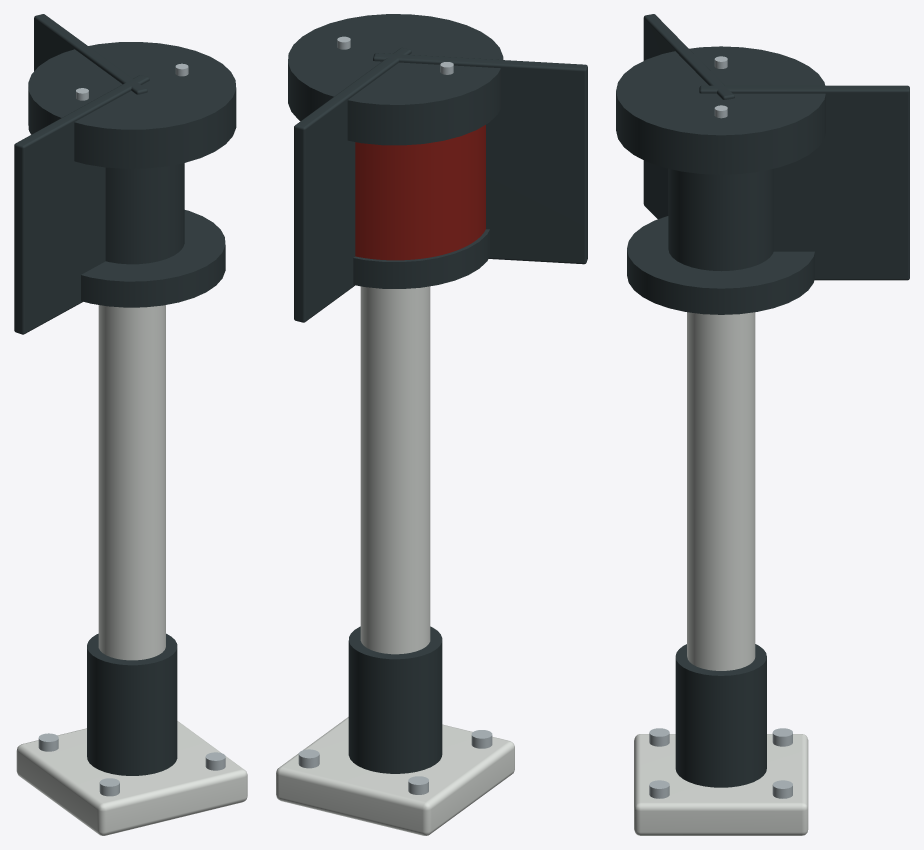
File: nav_port.glb
3 renders of one model, left to right at view 1: azimuth 30°, elevation 25°; view 2: azimuth 150°, elevation 25°; view 3: azimuth 270°, elevation 25°, orthographic. The views are drawn at different scales.
Visible parts, largest first — view 1: Tubular standard, Lantern cap, Screen, Welded mounting pad, Base collar, Rear housing, Lantern lower rim, Screen.001; view 2: Tubular standard, Lantern cap, Screen, Lens, Welded mounting pad, Screen.001, Base collar, Lantern lower rim; view 3: Tubular standard, Screen.001, Lantern cap, Welded mounting pad, Base collar, Rear housing, Lantern lower rim, Screen.
Part boxes in pixels (<box>): Tubular standard: <box>98,305,165,660</box>; Lantern cap: <box>28,42,236,168</box>; Screen: <box>14,75,149,334</box>; Welded mounting pad: <box>16,721,247,835</box>; Base collar: <box>87,633,177,775</box>; Rear housing: <box>105,163,184,264</box>; Lantern lower rim: <box>81,210,225,307</box>; Screen.001: <box>34,14,147,94</box>; Tubular standard: <box>360,286,430,654</box>; Lantern cap: <box>288,14,503,145</box>; Screen: <box>373,53,587,264</box>; Lens: <box>355,125,485,260</box>; Welded mounting pad: <box>276,717,514,835</box>; Screen.001: <box>294,47,411,322</box>; Base collar: <box>348,626,442,773</box>; Lantern lower rim: <box>353,229,489,288</box>; Tubular standard: <box>687,312,755,670</box>; Screen.001: <box>699,85,909,280</box>; Lantern cap: <box>616,46,825,174</box>; Welded mounting pad: <box>634,734,808,835</box>; Base collar: <box>675,644,766,787</box>; Rear housing: <box>668,168,773,271</box>; Lantern lower rim: <box>627,216,814,314</box>; Screen: <box>643,14,734,219</box>.
Size of the model in its own units: 0.3876 by 1.09 by 0.405.
